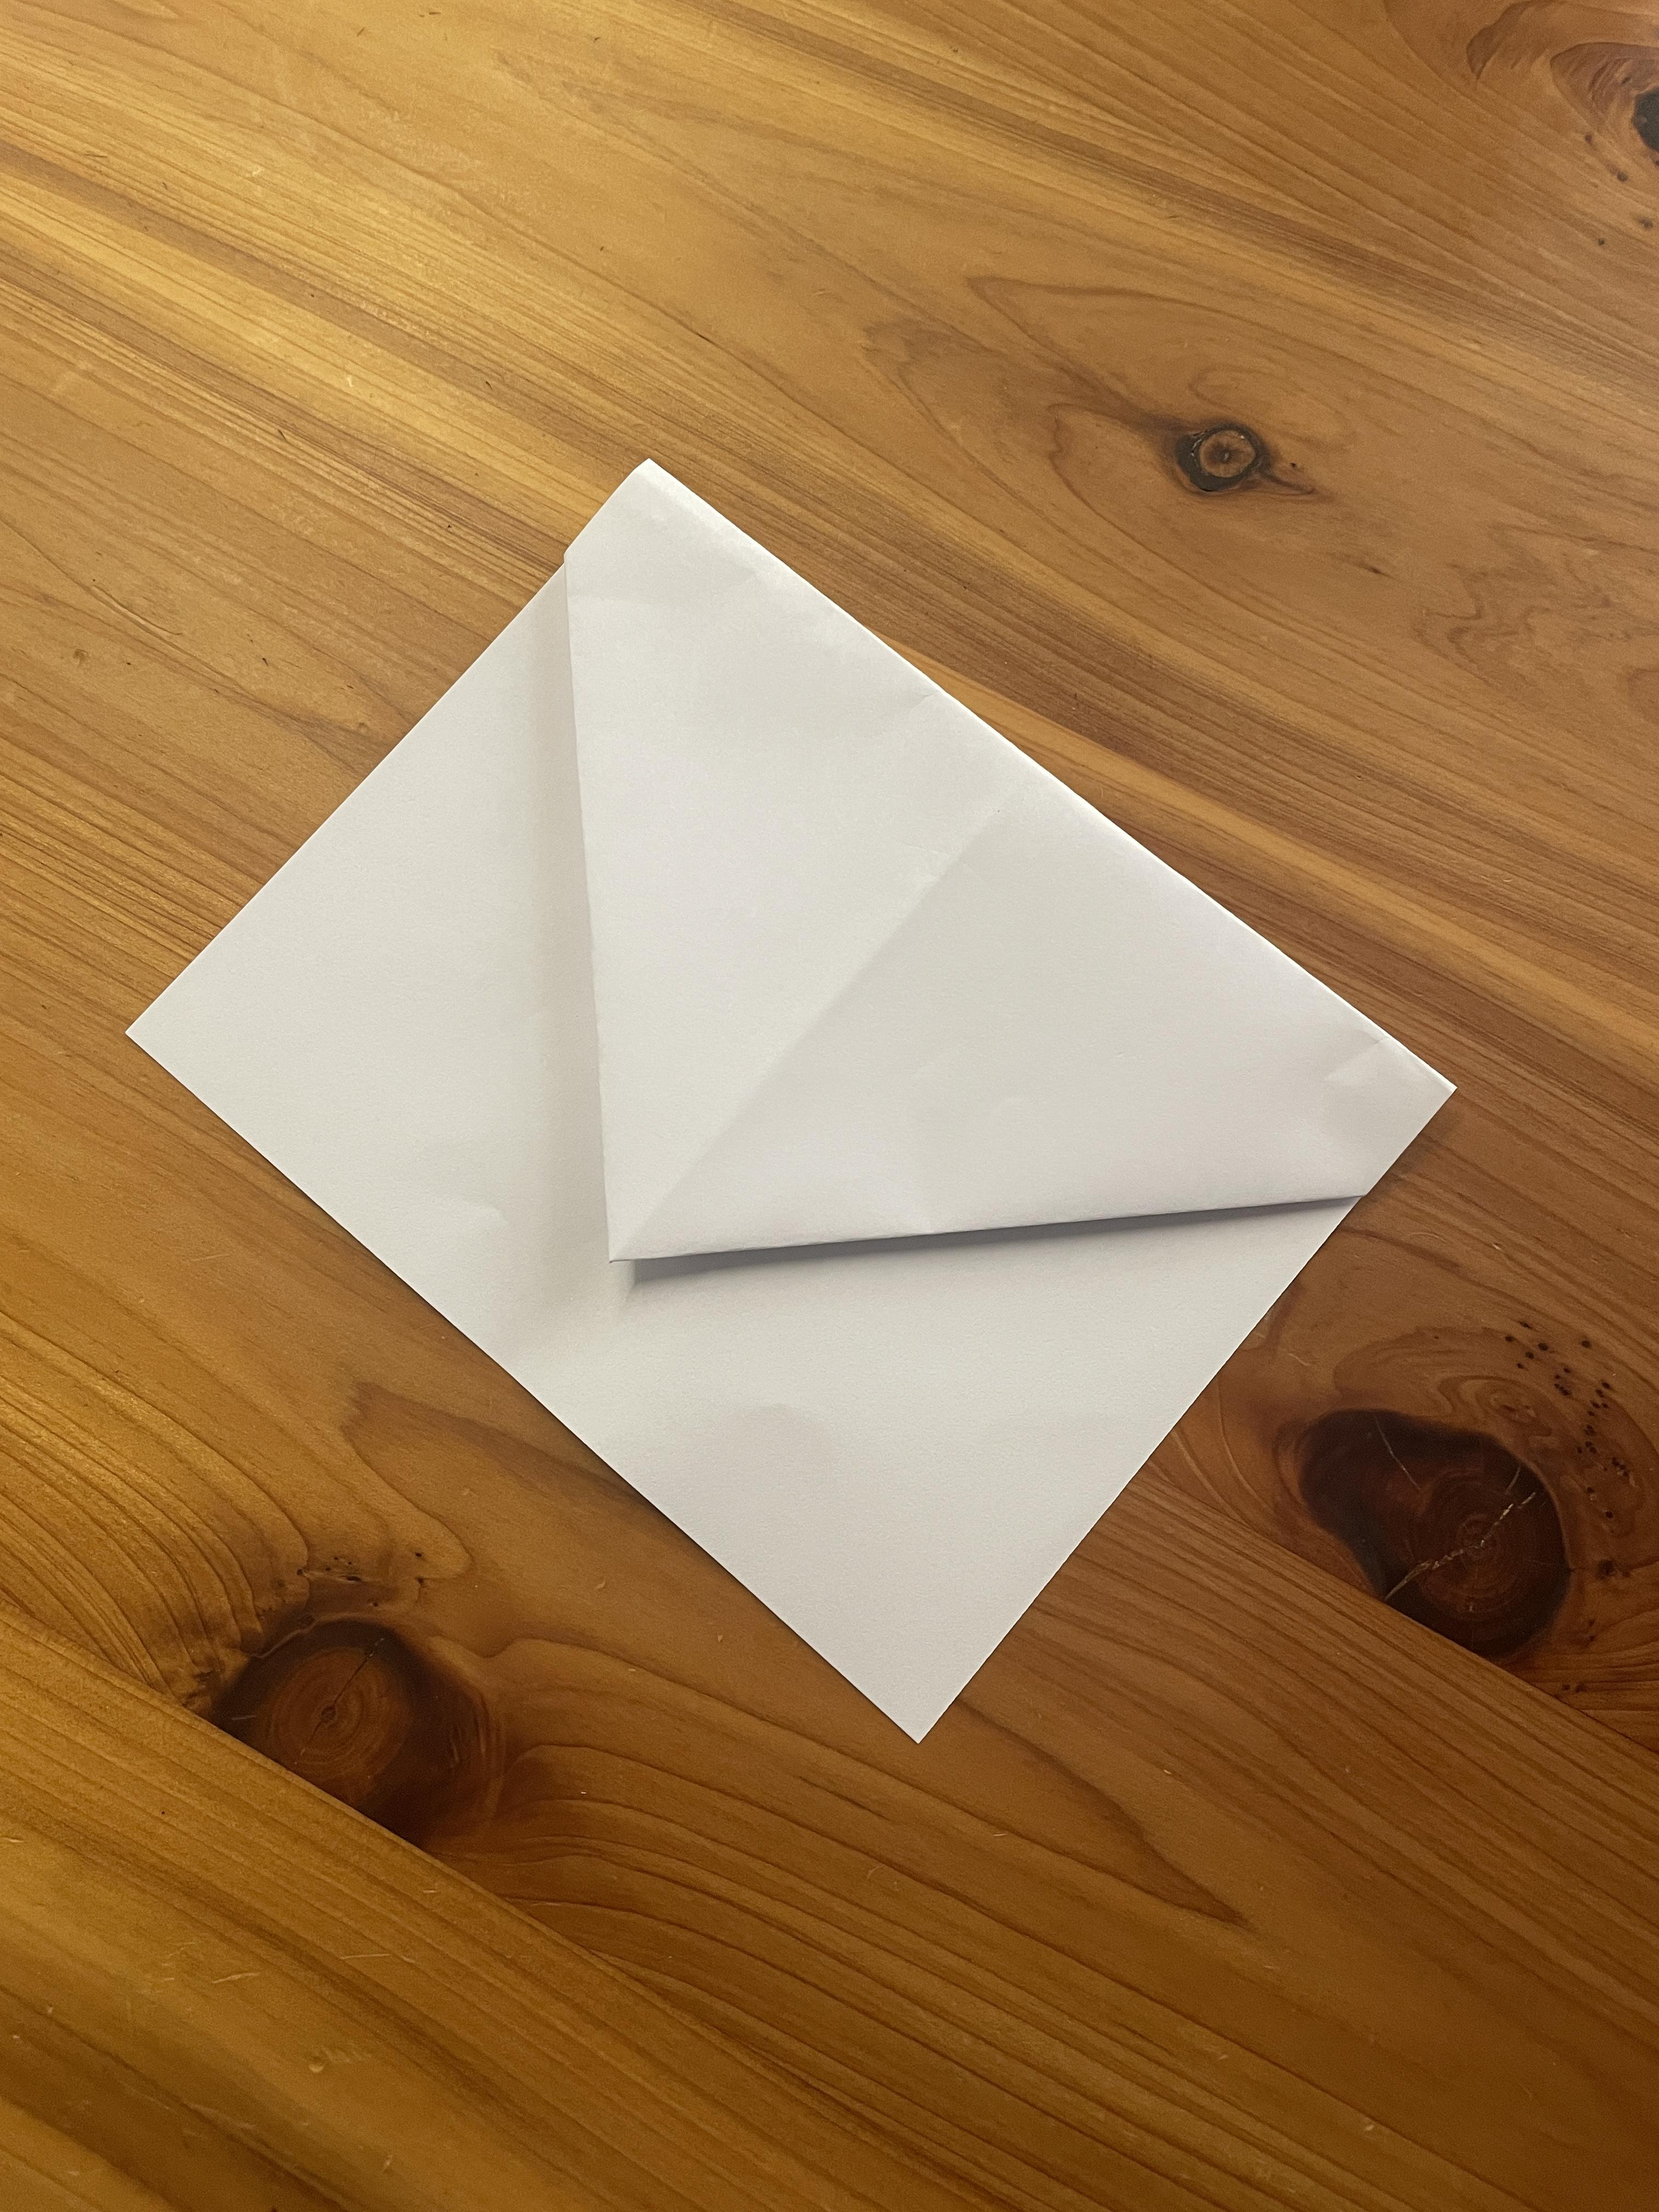shape_1: (94, 395, 1513, 1810)
